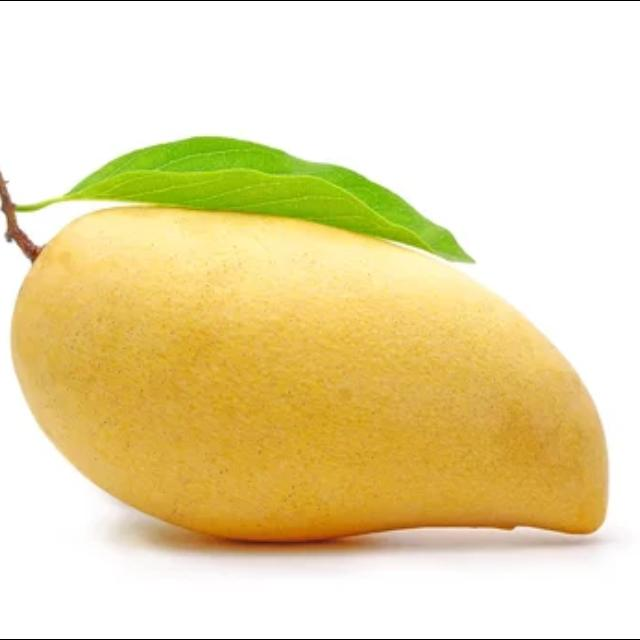mango: (10, 197, 610, 543)
